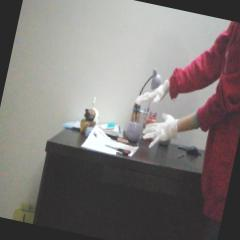gloved: (139, 109, 178, 153), (134, 75, 169, 110)
